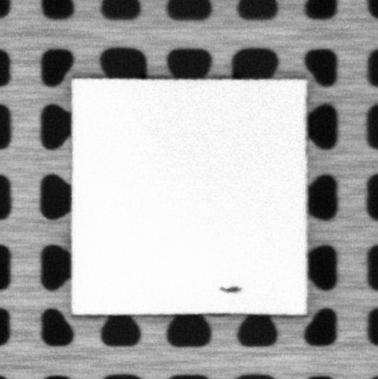DIE_INK: (218, 284, 243, 294)
